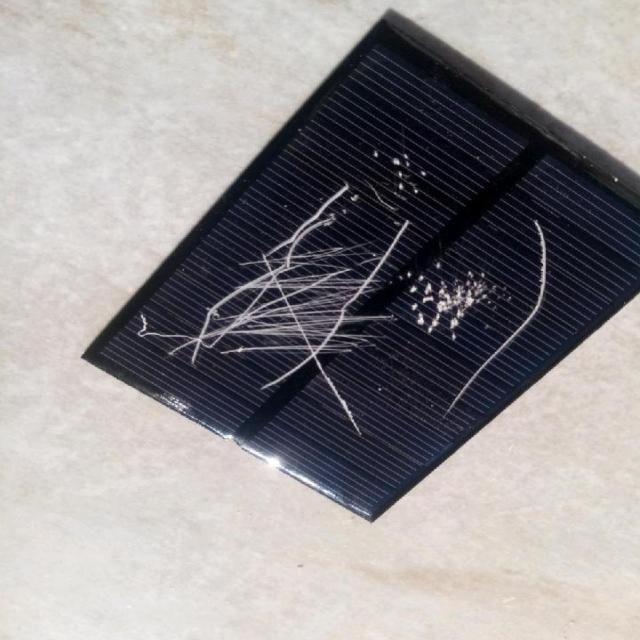faulty: (80, 28, 640, 525)
